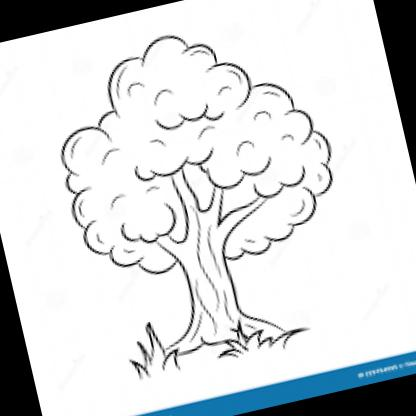branch_cut: (128, 144, 276, 259)
crown_cloud: (37, 2, 354, 293)
trunk_bark: (176, 264, 248, 324)
